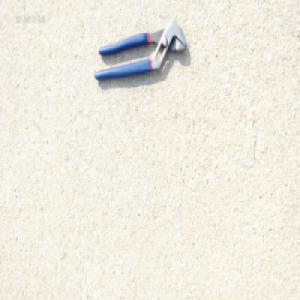Pliers: (93, 21, 188, 82)
